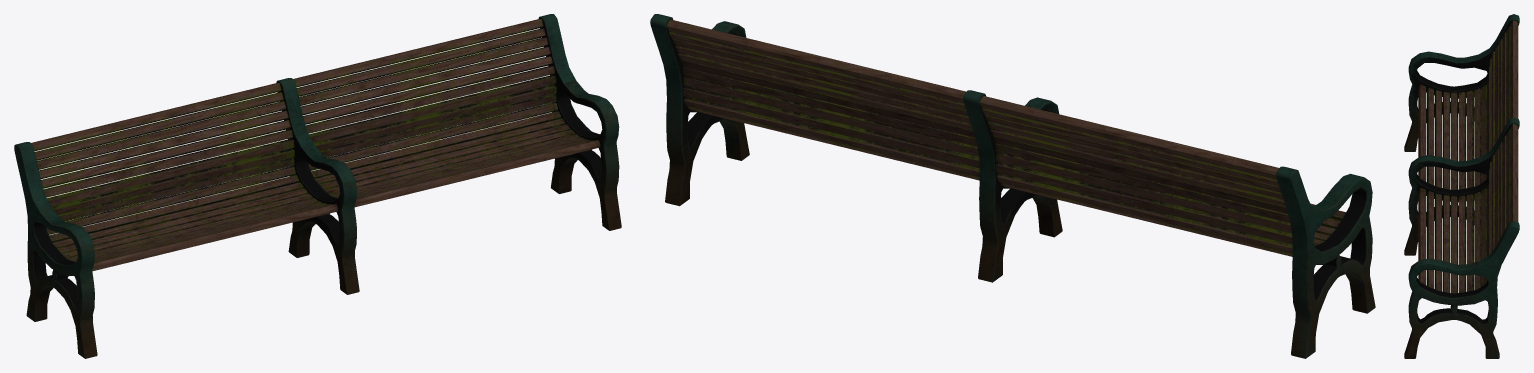
Rendered from prop_park_bench.glb.
3 views of the same model, side by side, from view 1: azimuth 30°, elevation 25°; view 2: azimuth 150°, elevation 25°; view 3: azimuth 270°, elevation 25° (orthographic). The views are drawn at different scales.
Visible parts, largest first — view 1: Bench_Bench_Metal_0; view 2: Bench_Bench_Metal_0; view 3: Bench_Bench_Metal_0.
Boxes of the visible parts, x1,y1,x2,y2 form: Bench_Bench_Metal_0: [14, 14, 621, 358]; Bench_Bench_Metal_0: [650, 14, 1375, 358]; Bench_Bench_Metal_0: [1404, 14, 1519, 358].
Bounding box in the file's own units: 205 × 60.11 × 47.01.
2 materials, 2 textured.
